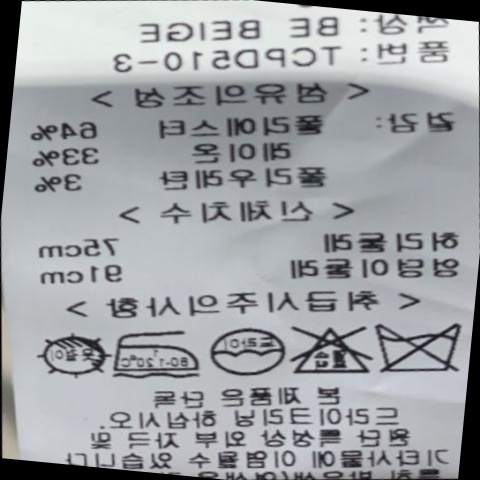DN_wash: (364, 312, 469, 390)
dry_clean: (203, 320, 288, 388)
iron_low: (105, 315, 202, 388)
line_dry_in_shade: (29, 318, 110, 390)
non_chlorine_bleach: (280, 311, 375, 389)
